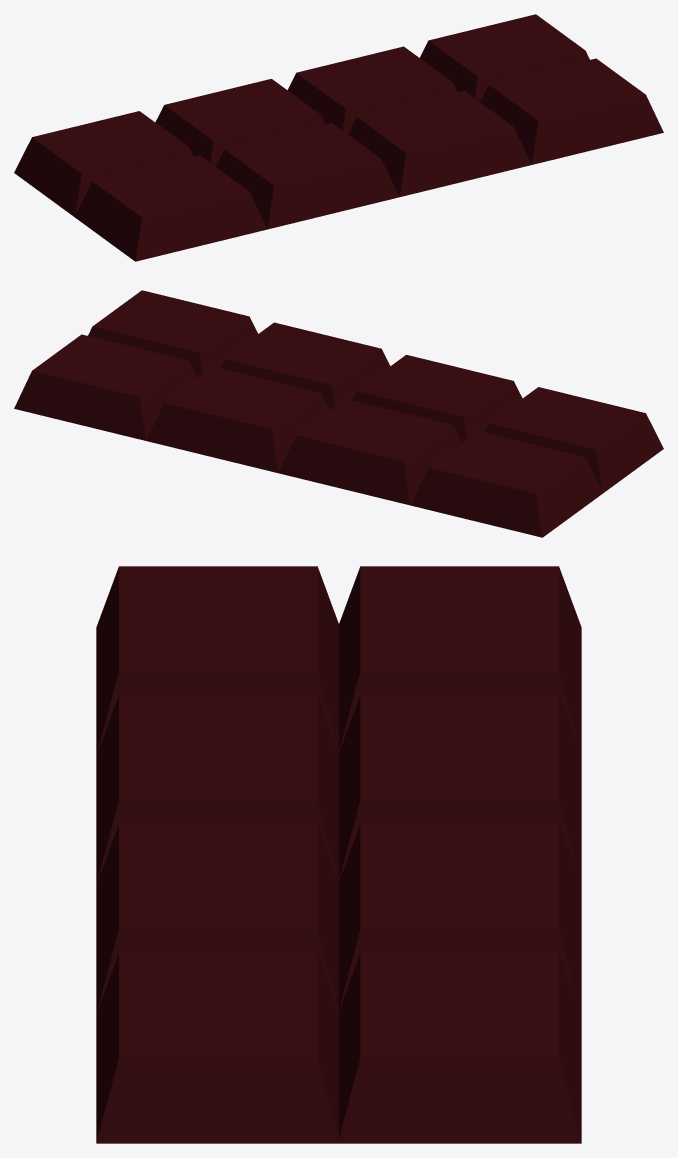
Rendered from chocolateBar_unwrapped.fbx.
3 views of the same model, one above another, from view 1: azimuth 30°, elevation 25°; view 2: azimuth 150°, elevation 25°; view 3: azimuth 270°, elevation 25° (orthographic). The views are drawn at different scales.
Visible parts, largest first — view 1: chocolate, chocolate2; view 2: chocolate2, chocolate; view 3: chocolate, chocolate2.
Part boxes in pixels (x1,y1,x2,y2): chocolate: [74, 58, 663, 261]; chocolate2: [14, 14, 589, 216]; chocolate2: [14, 334, 602, 537]; chocolate: [88, 290, 663, 493]; chocolate: [96, 566, 340, 1143]; chocolate2: [339, 566, 581, 1143].
Bounding box in the file's own units: 0.75 × 0.05 × 0.2983.
